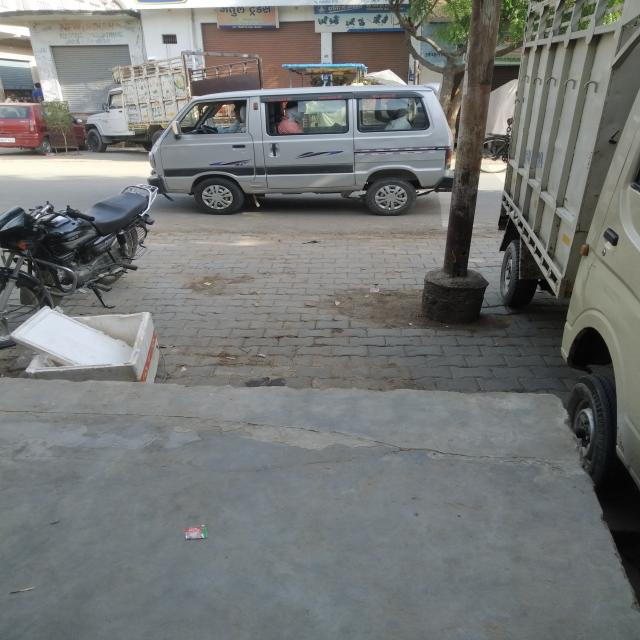Car: (138, 82, 466, 214)
